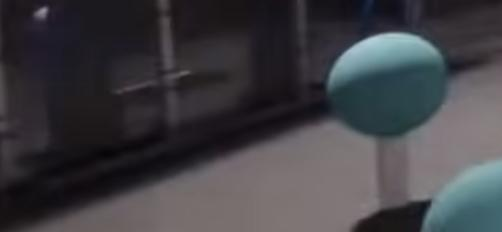algae: (327, 33, 449, 138), (419, 156, 502, 232)
coral: (374, 131, 409, 208)
